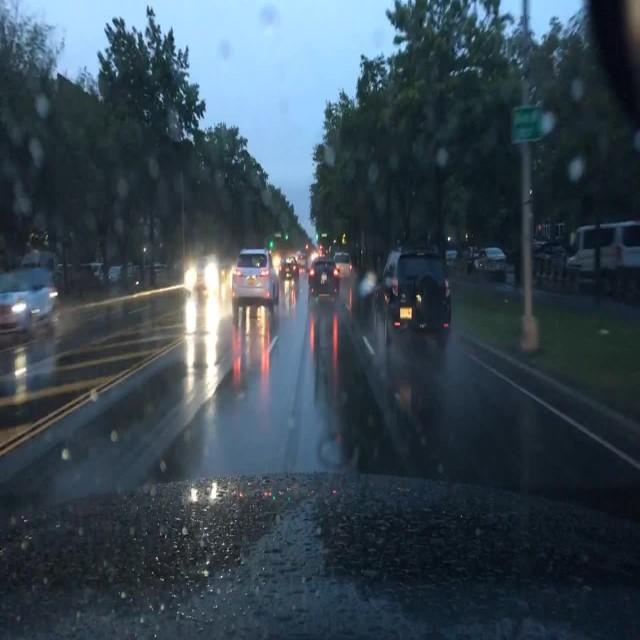normal: (203, 237, 308, 319), (383, 250, 454, 332), (0, 266, 56, 342)
